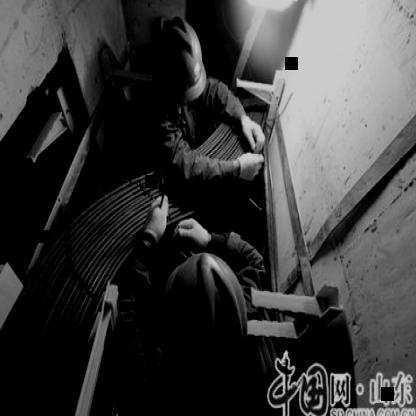helmet: (158, 249, 252, 411), (153, 20, 207, 116)
